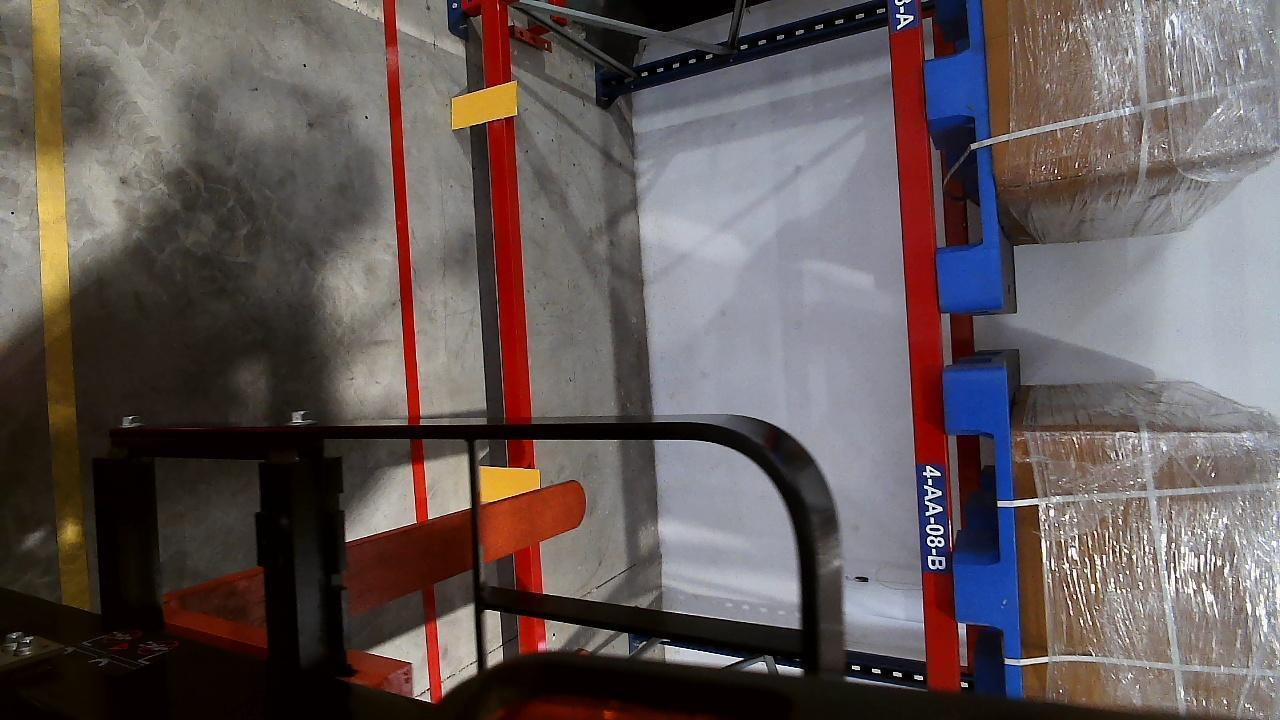red_line: (380, 0, 450, 695)
yellow_line: (10, 1, 96, 610)
